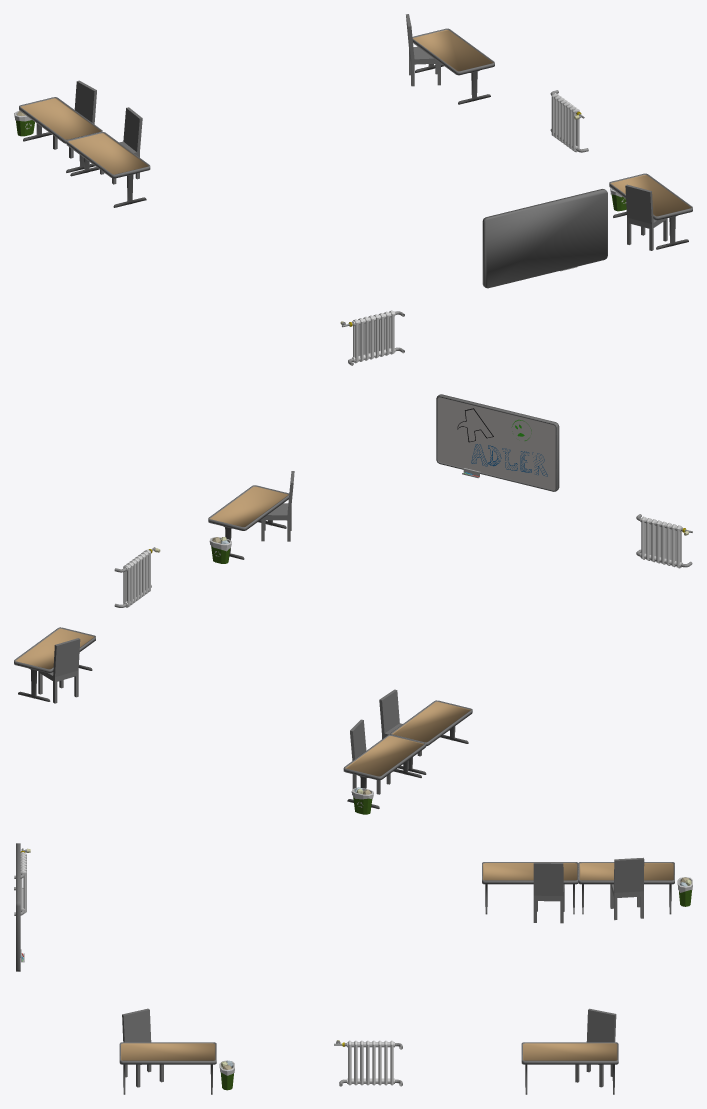
3 views of the same model, one above another, from view 1: azimuth 30°, elevation 25°; view 2: azimuth 150°, elevation 25°; view 3: azimuth 270°, elevation 25° (orthographic). The views are drawn at different scales.
Visible parts, largest first — view 1: Deko_2x3 campus I; view 2: Deko_2x3 campus I; view 3: Deko_2x3 campus I.
Part boxes in pixels (left/top/right/bottom): Deko_2x3 campus I: left=14, top=14, right=692, bottom=365; Deko_2x3 campus I: left=14, top=394, right=692, bottom=814; Deko_2x3 campus I: left=14, top=843, right=692, bottom=1094.
Bounding box in the file's own units: 8.1 × 2.36 × 11.58.
1 material, 1 textured.
